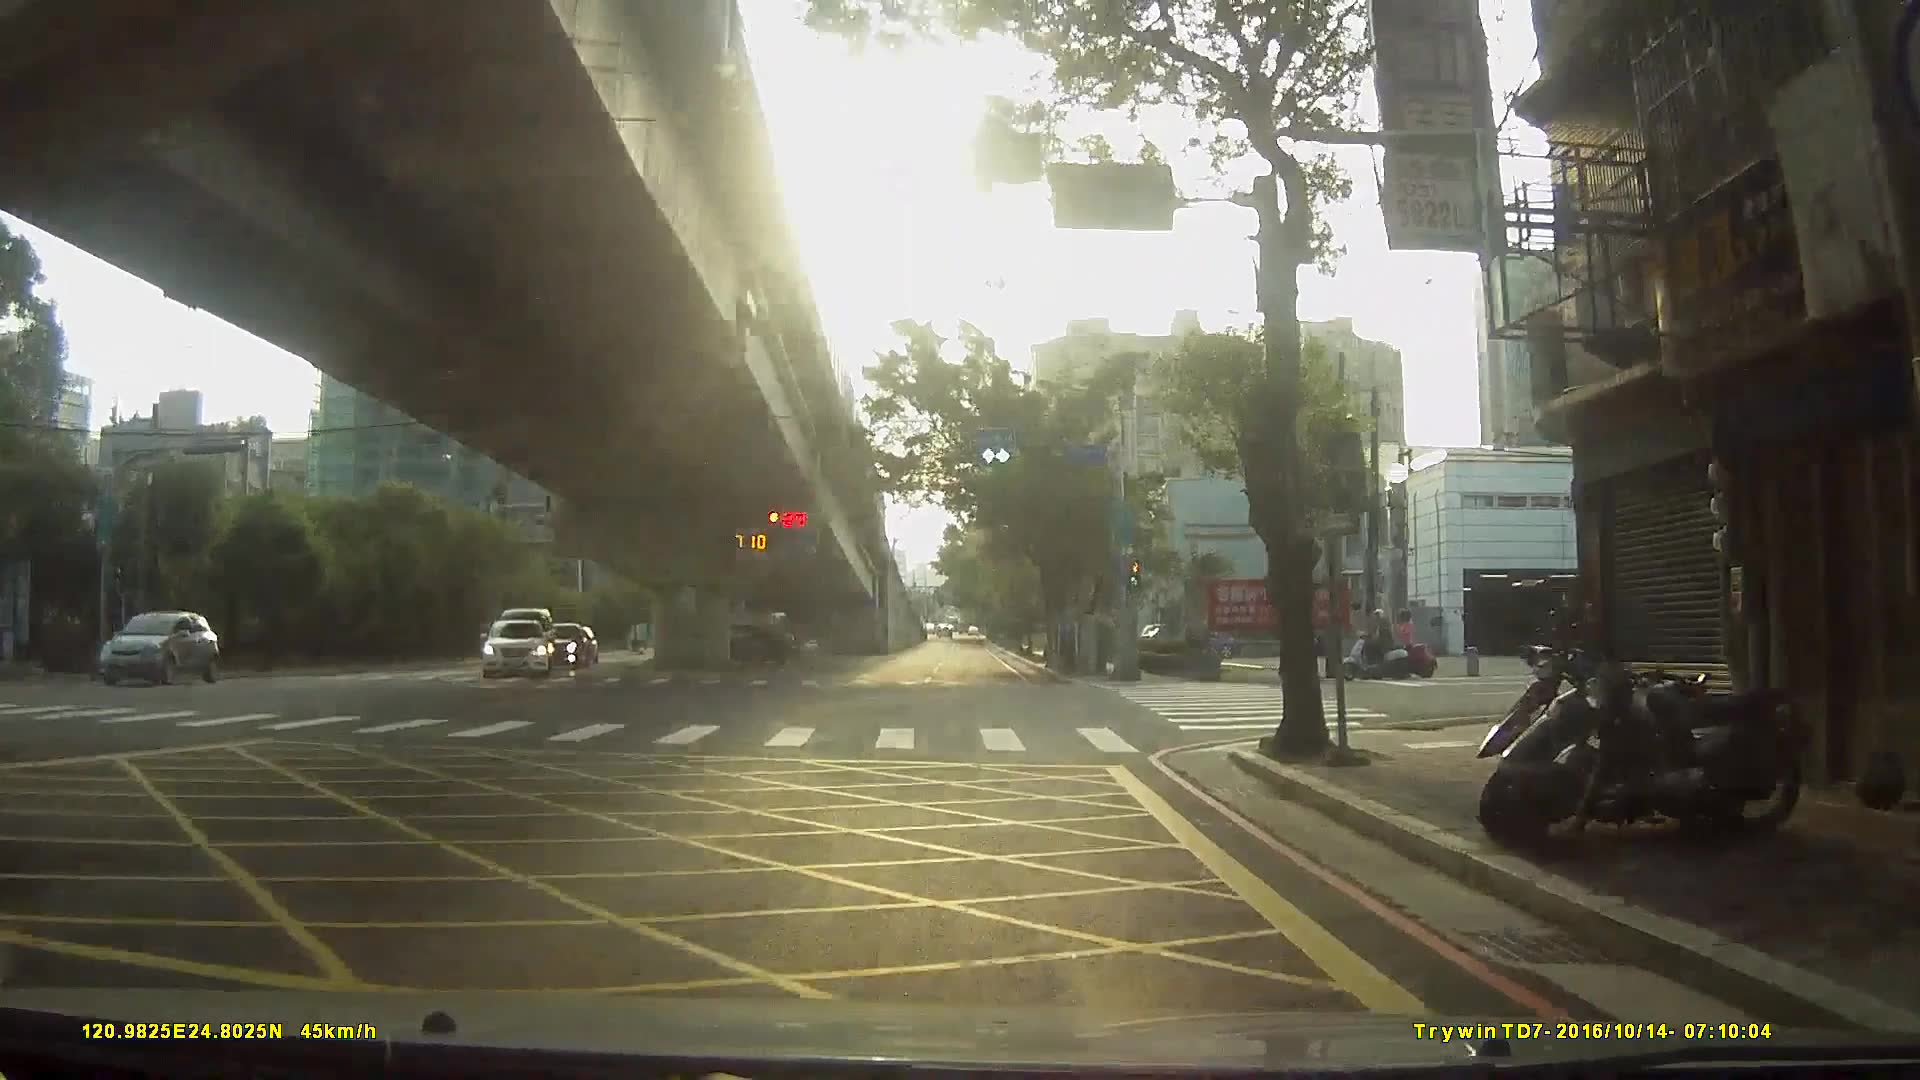rider: (1342, 608, 1413, 679)
vehicle: (80, 606, 224, 683), (474, 616, 549, 678), (703, 618, 792, 664), (533, 618, 591, 666)
